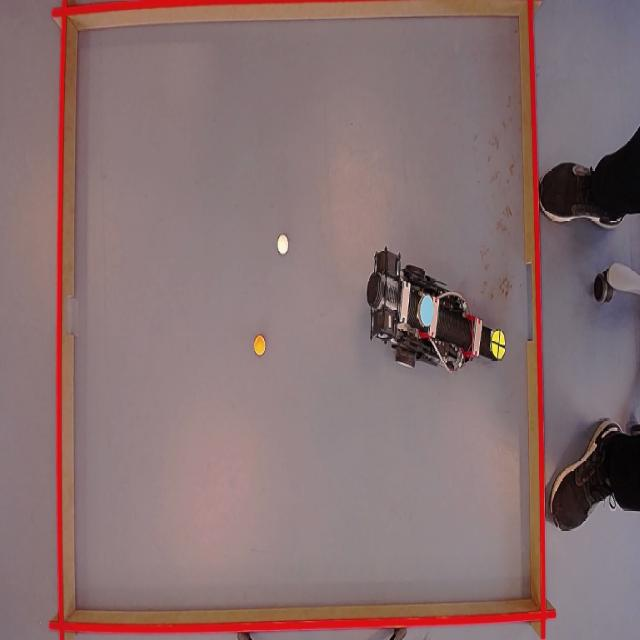orange: (254, 336, 268, 356)
robot: (364, 250, 512, 376)
robot-front: (492, 328, 506, 360)
robot-rear: (415, 294, 435, 326)
white: (276, 234, 288, 254)
